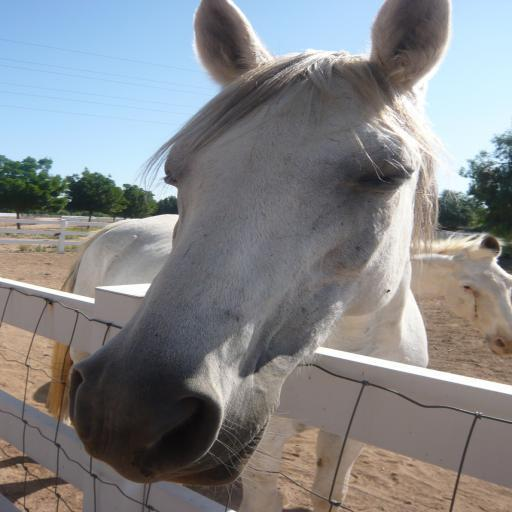horse: (52, 0, 450, 512), (50, 214, 512, 422)
